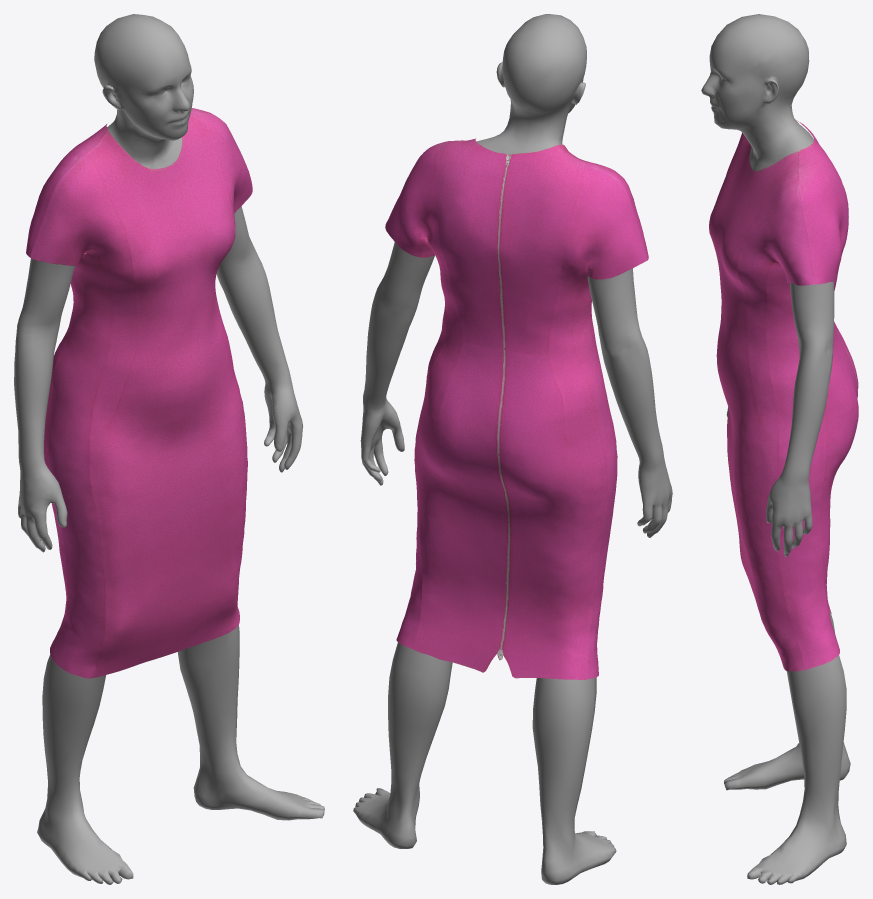
Rendered from Women_victoria beckham_dress.glb.
3 renders of one model, left to right at view 1: azimuth 30°, elevation 25°; view 2: azimuth 150°, elevation 25°; view 3: azimuth 270°, elevation 25°, orthographic. The views are drawn at different scales.
Visible parts, largest first — view 1: garment, avatar; view 2: garment, avatar; view 3: garment, avatar.
Boxes of the visible parts, x1=… form: garment: x1=26, y1=108, x2=252, y2=678; avatar: x1=14, y1=14, x2=324, y2=884; garment: x1=385, y1=138, x2=648, y2=679; avatar: x1=353, y1=14, x2=672, y2=884; garment: x1=709, y1=120, x2=858, y2=671; avatar: x1=701, y1=14, x2=850, y2=884.
Size of the model in its own units: 0.6681 by 1.76 by 0.3192.
Materials: 3 (1 with a texture image).
